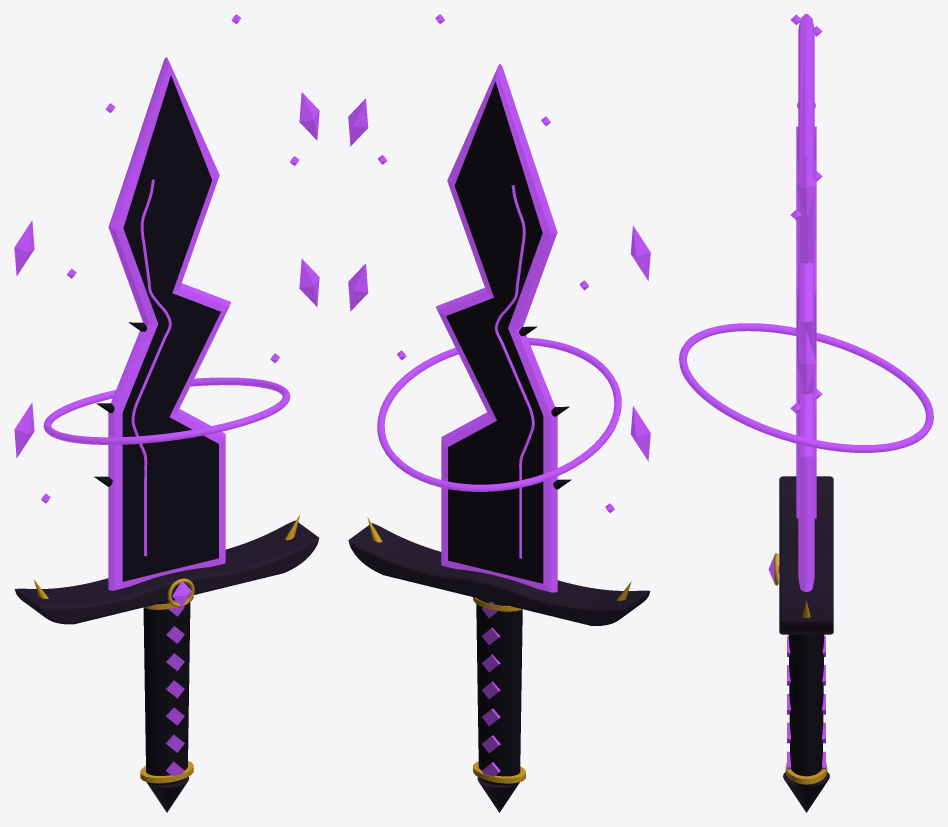
The model's file is 28_Legendary_Void_Fang.glb.
3 renders of one model, left to right at view 1: azimuth 30°, elevation 25°; view 2: azimuth 150°, elevation 25°; view 3: azimuth 270°, elevation 25°, orthographic. The views are drawn at different scales.
Parts seen in each view (by area): view 1: blade_2, guard_wing_0, handle_13, aura_ring_30, blade_inlay_36, aura_shard_31, aura_shard_33, aura_shard_32, aura_shard_34, pommel_spike_29; view 2: blade_2, guard_wing_0, handle_13, aura_ring_30, blade_inlay_35, aura_shard_31, aura_shard_33, pommel_spike_29, aura_shard_34, aura_shard_32; view 3: blade_2, guard_wing_0, aura_ring_30, handle_13, blade_inlay_35, blade_inlay_36, pommel_spike_29, aura_shard_32, aura_shard_34.
Part boxes in pixels (<box>): blade_2: <box>108,57,231,590</box>; guard_wing_0: <box>14,520,319,624</box>; handle_13: <box>143,602,190,785</box>; aura_ring_30: <box>43,377,290,444</box>; blade_inlay_36: <box>131,179,171,556</box>; aura_shard_31: <box>14,402,34,458</box>; aura_shard_33: <box>14,220,34,275</box>; aura_shard_32: <box>299,258,319,306</box>; aura_shard_34: <box>299,92,319,140</box>; pommel_spike_29: <box>146,776,189,812</box>; blade_2: <box>436,64,557,592</box>; guard_wing_0: <box>348,523,650,625</box>; handle_13: <box>476,604,522,785</box>; aura_ring_30: <box>377,337,621,491</box>; blade_inlay_35: <box>494,185,534,558</box>; aura_shard_31: <box>630,406,650,461</box>; aura_shard_33: <box>630,225,650,280</box>; pommel_spike_29: <box>477,777,519,812</box>; aura_shard_34: <box>348,98,368,146</box>; aura_shard_32: <box>348,263,368,311</box>; blade_2: <box>798,14,814,591</box>; guard_wing_0: <box>779,476,833,634</box>; aura_ring_30: <box>679,323,933,452</box>; handle_13: <box>788,634,824,786</box>; blade_inlay_35: <box>814,126,816,518</box>; blade_inlay_36: <box>796,126,798,518</box>; pommel_spike_29: <box>783,772,829,812</box>; aura_shard_32: <box>797,331,815,394</box>; aura_shard_34: <box>797,155,815,218</box>.
Size of the model in its own units: 0.3685 by 0.9073 by 0.2519.
8 materials, 8 textured.
